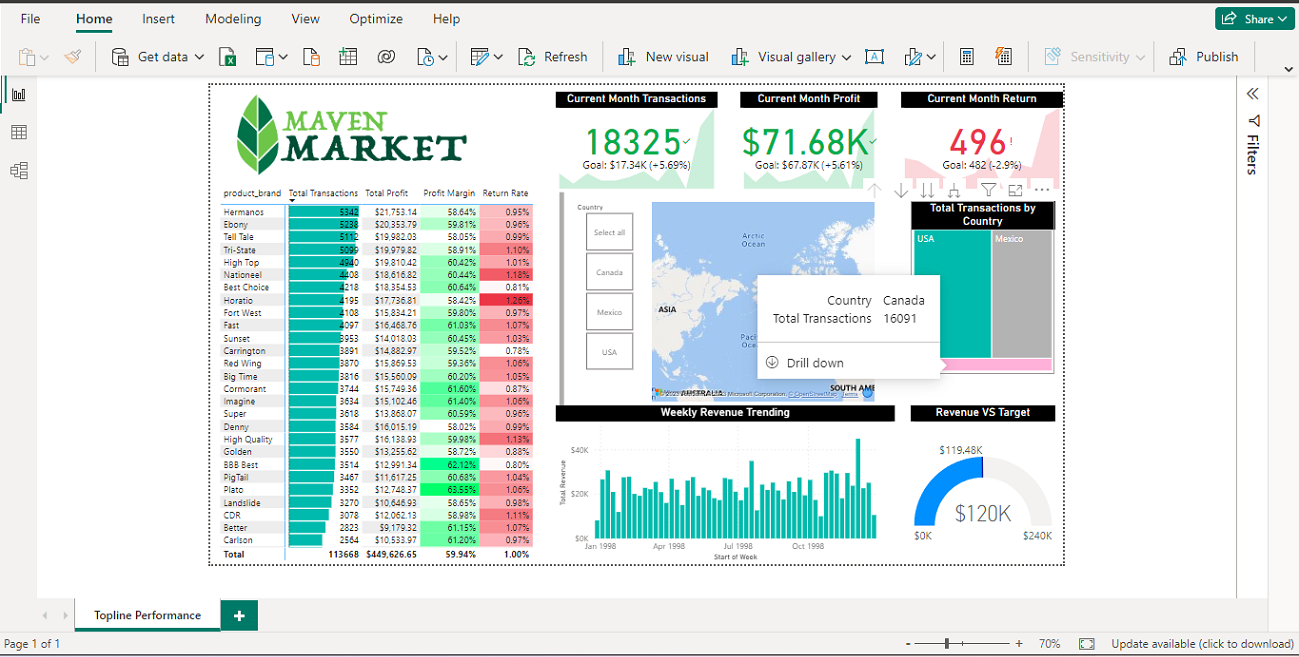

The dashboard page shown, as its layout file describes it:
{"tool":"powerbi","page":{"name":"Topline Performance ","canvas":[1280,720],"ordinal":0},"visuals":[{"type":"image","box":[10.2,0,401,147.8],"z":0},{"type":"pivotTable","fields":{"Rows":["Products.product_brand"],"Values":["Transaction_Data.Total Transactions","Transaction_Data.Total Profit","Transaction_Data.Profit Margin","Return_Data.Return Rate"]},"box":[10.2,147.8,526.8,572.2],"z":1000},{"type":"kpi","title":"Current Month Transactions","fields":{"Indicator":["Transaction_Data.Total Transactions"],"TrendLine":["Calendar.Start of Month"],"Goal":["Transaction_Data.Last Month Transaction"]},"box":[518,10.2,242.9,150.7],"z":2000},{"type":"kpi","title":"Current Month Profit","fields":{"TrendLine":["Calendar.Start of Month"],"Goal":["Transaction_Data.Last Month Profit"],"Indicator":["Transaction_Data.Total Profit"]},"box":[796.1,10.2,206.3,150.7],"z":3000},{"type":"kpi","title":"Current Month Return","fields":{"Indicator":["Return_Data.Total Returns"],"TrendLine":["Calendar.Start of Month"],"Goal":["Return_Data.Last Month Returns"]},"box":[1037.6,10.2,242.9,150.7],"z":4000},{"type":"map","fields":{"Category":["Stores.City"],"Size":["Transaction_Data.Total Transactions"]},"box":[658.5,171.2,343.9,310.2],"z":5000},{"type":"slicer","fields":{"Values":["Stores.Country"]},"box":[538.5,171.2,120,263.4],"z":6000},{"type":"treemap","fields":{"Values":["Transaction_Data.Total Transactions"],"Group":["Stores.Country","Stores.State","Stores.City"]},"box":[1050.7,174.1,216.6,260.5],"z":7000},{"type":"columnChart","title":"Weekly Revenue Trending","fields":{"Y":["Transaction_Data.Total Revenue"],"Category":["Calendar.Start of Week"]},"box":[518,481.5,509.3,238.5],"z":8000},{"type":"gauge","title":"Revenue VS Target","fields":{"Y":["Transaction_Data.Total Revenue"],"TargetValue":["Transaction_Data.Revenue Target"]},"box":[1051,481,217,239],"z":9000}]}

Visuals, with their boxes on the page's 1280x720 design canvas (x1, y1, x2, y2). These are canvas units, not pixel positions in the 1299x657 screenshot, which may show the page scaled, cropped or inside an application window:
image: <bbox>10, 0, 411, 148</bbox>
pivotTable - Products.product_brand x Transaction_Data.Total Transactions: <bbox>10, 148, 537, 720</bbox>
"Current Month Transactions" kpi: <bbox>518, 10, 761, 161</bbox>
"Current Month Profit" kpi: <bbox>796, 10, 1002, 161</bbox>
"Current Month Return" kpi: <bbox>1038, 10, 1280, 161</bbox>
map - Stores.City x Transaction_Data.Total Transactions: <bbox>658, 171, 1002, 481</bbox>
slicer - Stores.Country: <bbox>538, 171, 658, 435</bbox>
treemap - Transaction_Data.Total Transactions x Stores.Country: <bbox>1051, 174, 1267, 435</bbox>
"Weekly Revenue Trending" columnChart: <bbox>518, 482, 1027, 720</bbox>
"Revenue VS Target" gauge: <bbox>1051, 481, 1268, 720</bbox>
